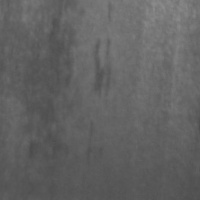inclusion: (12, 0, 77, 169), (83, 30, 120, 106), (77, 115, 102, 172)
